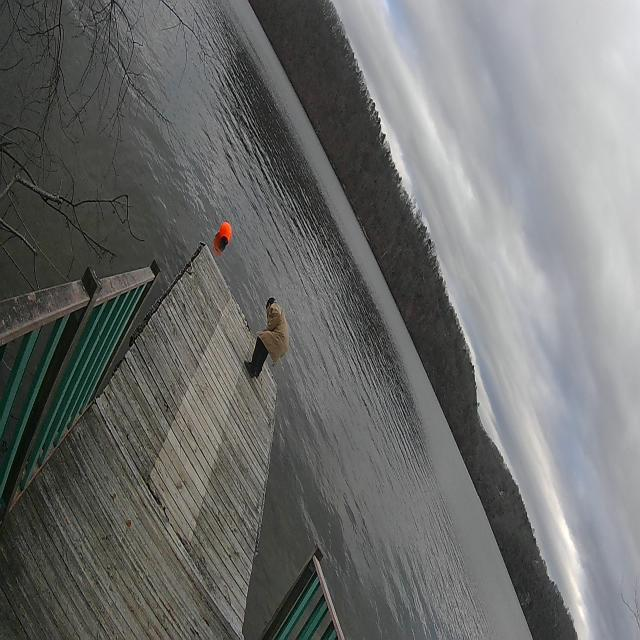Buoy: (218, 218, 233, 248)
